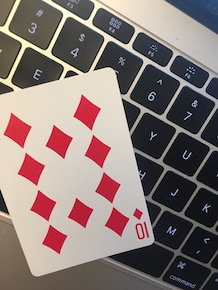TenOfDiamonds: (1, 65, 156, 277)
